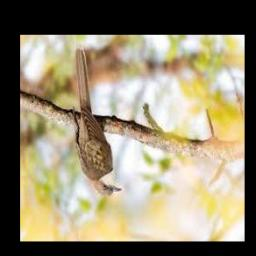Cuckoo: (74, 45, 123, 196)
